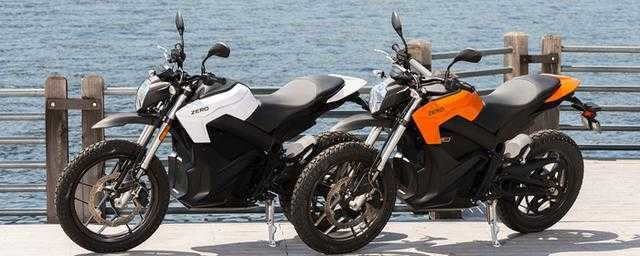motorbike: (290, 8, 602, 256), (53, 10, 369, 253)
